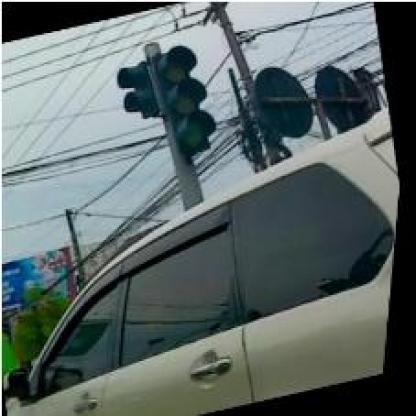green: (141, 40, 229, 162)
